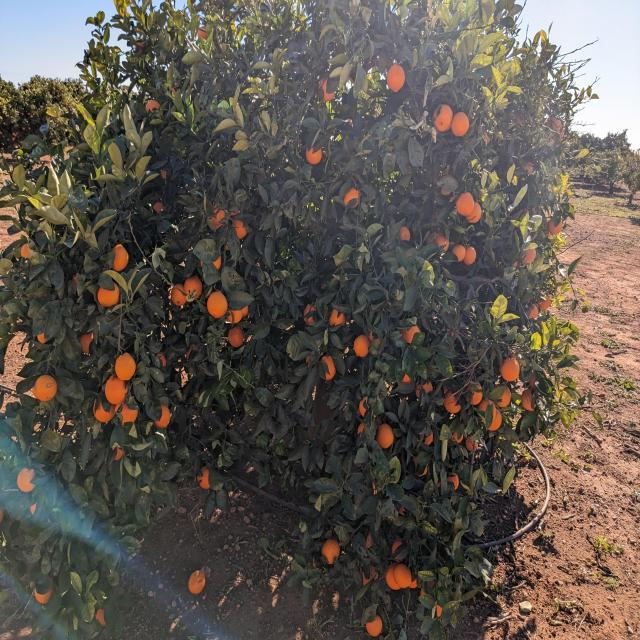Jeruk Sudah Matang: (34, 377, 60, 400), (388, 63, 408, 92), (102, 380, 126, 404), (208, 289, 228, 317), (118, 354, 138, 381), (451, 112, 471, 138), (436, 102, 454, 130), (188, 571, 208, 596), (113, 244, 132, 270), (96, 286, 120, 306), (393, 562, 411, 588), (378, 424, 396, 449), (501, 361, 522, 382), (18, 468, 35, 493), (456, 194, 474, 217), (354, 337, 372, 359), (170, 284, 187, 306), (185, 276, 204, 295), (324, 542, 342, 562), (226, 330, 246, 348), (368, 617, 385, 638), (386, 566, 400, 590), (212, 207, 228, 228), (94, 406, 112, 424), (159, 405, 173, 428), (304, 150, 324, 166), (18, 244, 38, 260), (78, 333, 94, 353), (122, 406, 140, 423), (404, 327, 421, 345), (445, 396, 461, 415), (320, 81, 335, 101), (344, 188, 362, 204), (232, 304, 250, 320), (234, 220, 248, 240), (468, 202, 481, 222), (302, 306, 315, 326), (326, 357, 338, 378), (548, 217, 562, 235), (489, 412, 502, 431), (452, 244, 464, 264), (200, 468, 212, 488), (94, 606, 106, 626), (331, 310, 346, 324), (498, 390, 512, 405), (524, 248, 537, 264), (538, 294, 550, 310), (146, 98, 160, 111), (466, 246, 476, 264), (360, 399, 370, 416), (214, 254, 224, 271), (528, 305, 540, 319), (400, 227, 412, 240), (472, 394, 484, 406), (425, 431, 436, 444), (358, 424, 369, 436), (522, 397, 532, 410), (402, 374, 412, 386), (450, 474, 460, 486), (424, 382, 434, 392)
